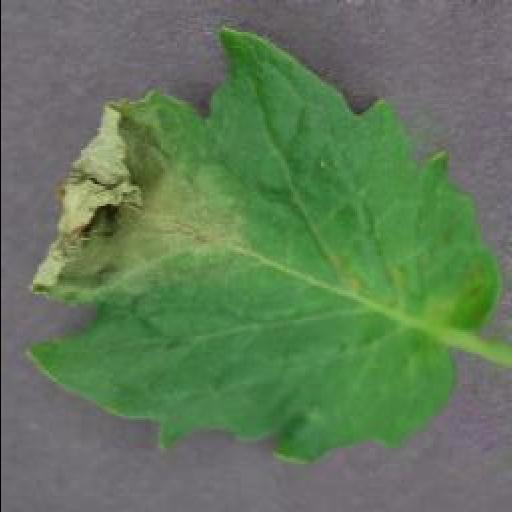disease_tomato: (26, 26, 502, 464)
